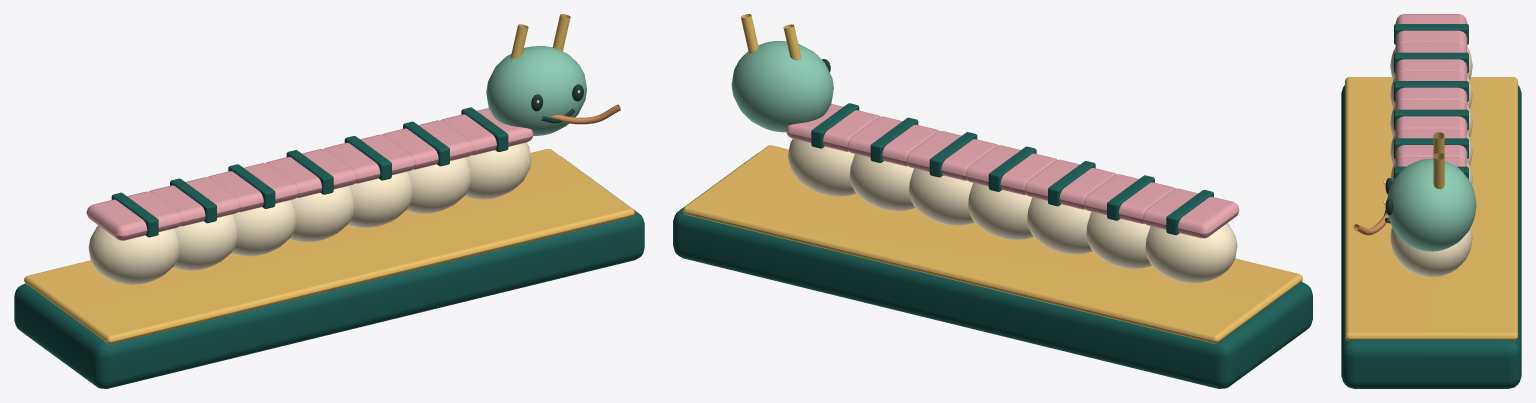
3 views of the same model, side by side, from view 1: azimuth 30°, elevation 25°; view 2: azimuth 150°, elevation 25°; view 3: azimuth 270°, elevation 25° (orthographic).
Parts seen in each view (by area): view 1: Brass welt, Jade footing, Sushi dragon head, Sushi rice, Sushi rice.006, Sushi rice.005, Sushi rice.002, Sushi rice.001, Sushi rice.003, Sushi rice.004, Salmon sashimi, Salmon sashimi.001 (+12 smaller); view 2: Brass welt, Jade footing, Sushi dragon head, Sushi rice, Sushi rice.006, Sushi rice.002, Sushi rice.004, Sushi rice.005, Sushi rice.003, Sushi rice.001, Salmon sashimi, Salmon sashimi.005 (+12 smaller); view 3: Brass welt, Jade footing, Sushi dragon head, Sushi rice.006, Salmon sashimi.001, Salmon sashimi, Salmon sashimi.003, Salmon sashimi.002, Salmon sashimi.004, Nori ribbon.001, Nori ribbon.003, Nori ribbon.002 (+9 smaller).
Boxes of the visible parts, left/top/right/bottom form: Brass welt: left=24, top=14, right=634, bottom=344; Jade footing: left=14, top=156, right=644, bottom=388; Sushi dragon head: left=486, top=46, right=586, bottom=135; Sushi rice: left=88, top=225, right=178, bottom=284; Sushi rice.006: left=464, top=142, right=531, bottom=199; Sushi rice.005: left=406, top=157, right=470, bottom=213; Sushi rice.002: left=231, top=200, right=295, bottom=256; Sushi rice.001: left=173, top=214, right=237, bottom=270; Sushi rice.003: left=289, top=186, right=353, bottom=242; Sushi rice.004: left=347, top=171, right=412, bottom=227; Salmon sashimi: left=86, top=191, right=181, bottom=240; Salmon sashimi.001: left=149, top=177, right=239, bottom=226; Brass welt: left=683, top=14, right=1302, bottom=343; Jade footing: left=673, top=153, right=1312, bottom=388; Sushi dragon head: left=731, top=41, right=833, bottom=132; Sushi rice: left=1145, top=223, right=1237, bottom=283; Sushi rice.006: left=788, top=139, right=856, bottom=196; Sushi rice.002: left=1027, top=197, right=1092, bottom=254; Sushi rice.004: left=909, top=168, right=974, bottom=225; Sushi rice.005: left=850, top=154, right=915, bottom=211; Sushi rice.003: left=968, top=183, right=1033, bottom=240; Sushi rice.001: left=1086, top=212, right=1151, bottom=268; Salmon sashimi: left=1143, top=188, right=1239, bottom=238; Salmon sashimi.005: left=847, top=116, right=938, bottom=166; Brass welt: left=1345, top=77, right=1517, bottom=340; Jade footing: left=1341, top=85, right=1521, bottom=388; Sushi dragon head: left=1387, top=158, right=1476, bottom=251; Sushi rice.006: left=1390, top=227, right=1472, bottom=277; Salmon sashimi.001: left=1395, top=42, right=1467, bottom=77; Salmon sashimi: left=1395, top=14, right=1467, bottom=49; Salmon sashimi.003: left=1395, top=100, right=1467, bottom=135; Salmon sashimi.002: left=1395, top=71, right=1467, bottom=106; Salmon sashimi.004: left=1395, top=128, right=1467, bottom=163; Nori ribbon.001: left=1394, top=52, right=1468, bottom=73; Nori ribbon.003: left=1394, top=109, right=1468, bottom=130; Nori ribbon.002: left=1394, top=81, right=1468, bottom=101.
Bounding box in the file's own units: 1.7 × 0.6485 × 0.48.
